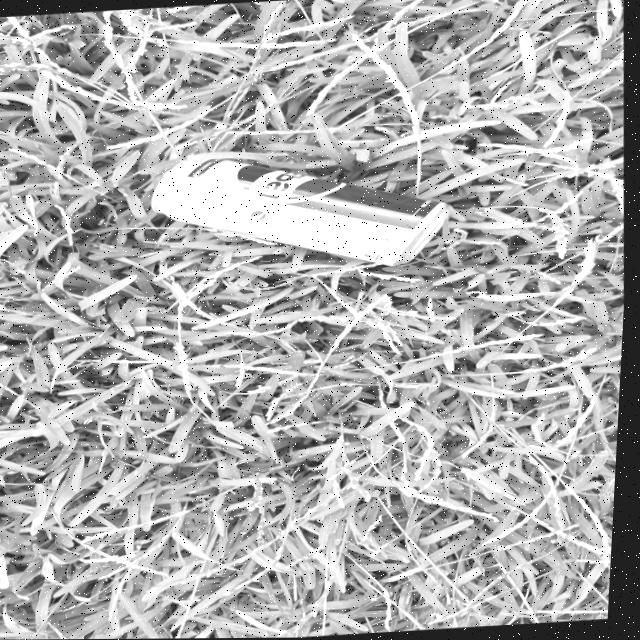Pepsi Retro: (146, 130, 462, 278)
